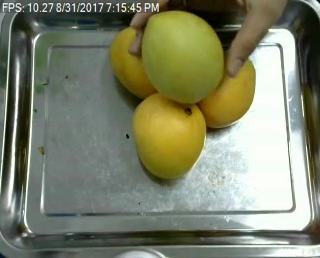Mango: (141, 10, 223, 104), (132, 97, 209, 179), (194, 57, 256, 125), (108, 25, 165, 98)
